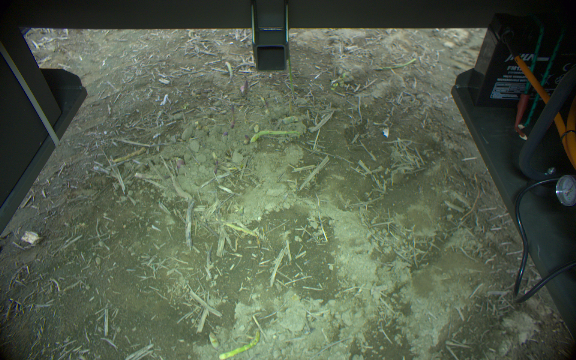aspa: (219, 328, 262, 360), (250, 127, 301, 145), (284, 51, 297, 116), (205, 330, 222, 352)
